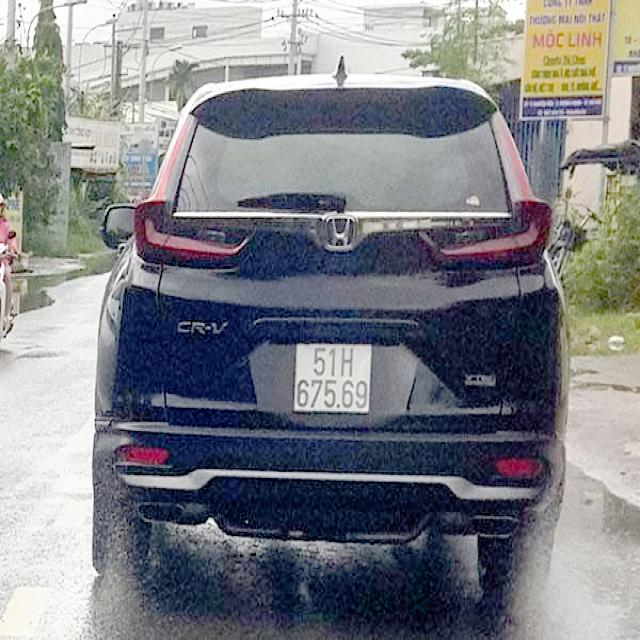license_plate: (294, 343, 372, 415)
